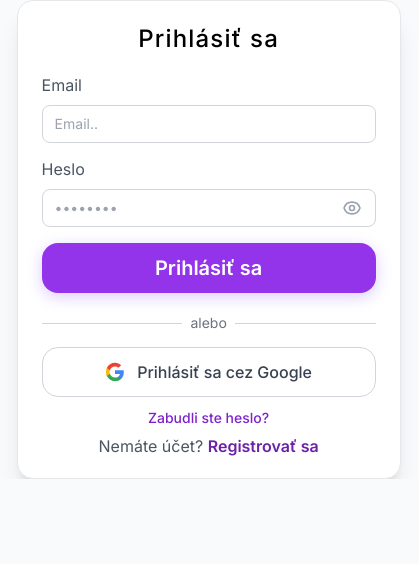
LoginForm › distinguishes a failed CSRF priming after Google login
Click the button "Prihlásiť sa cez Google".
click(209, 372)  # box [42,347,376,397]
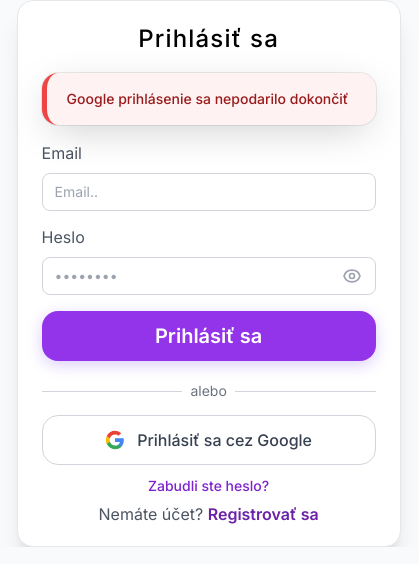
Expected: the button "Prihlásiť sa cez Google" is enabled, [42,415,376,465]
Result: the message reads "Google prihlásenie sa nepodarilo dokončiť" at [67,90,348,107]
